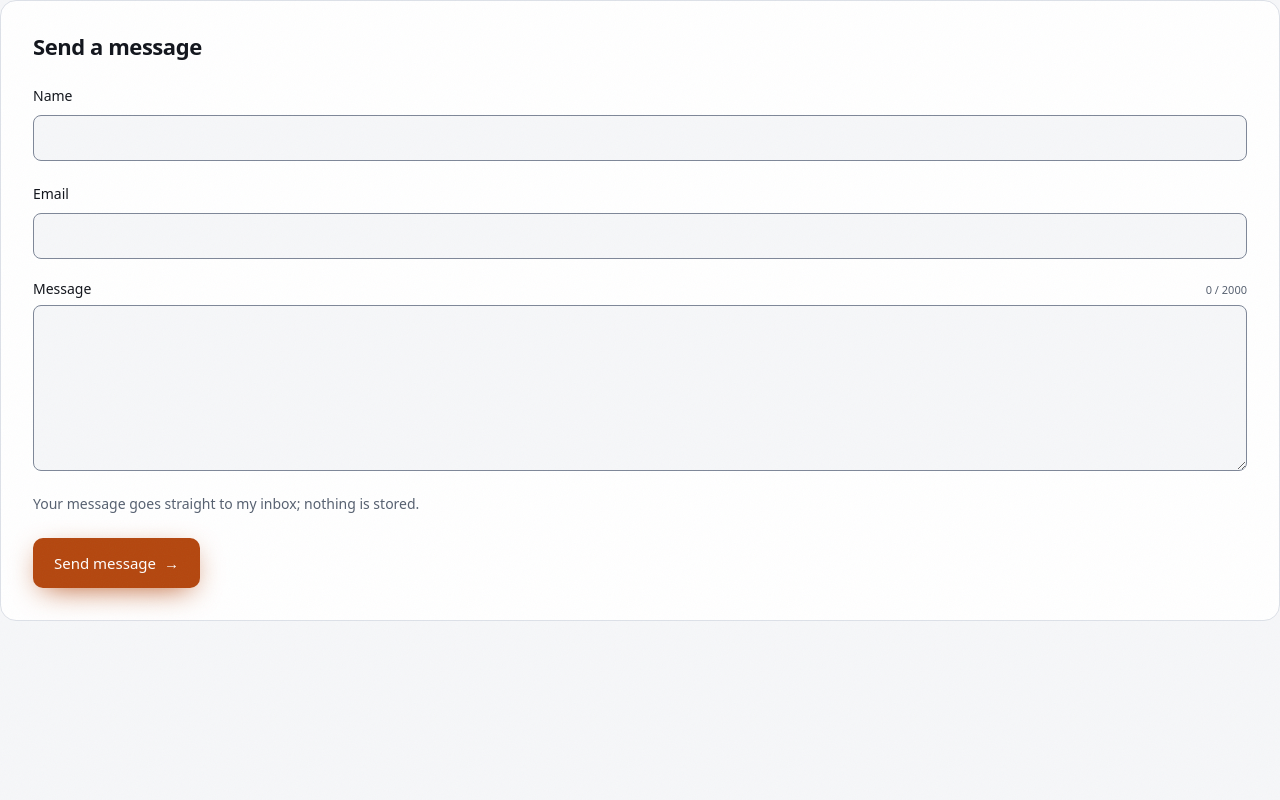
it: ContactForm › shows a server-side form error as an alert with the email
Type "Ada" into the field labelled "Name" at (640, 138), box [33,115,1247,161]
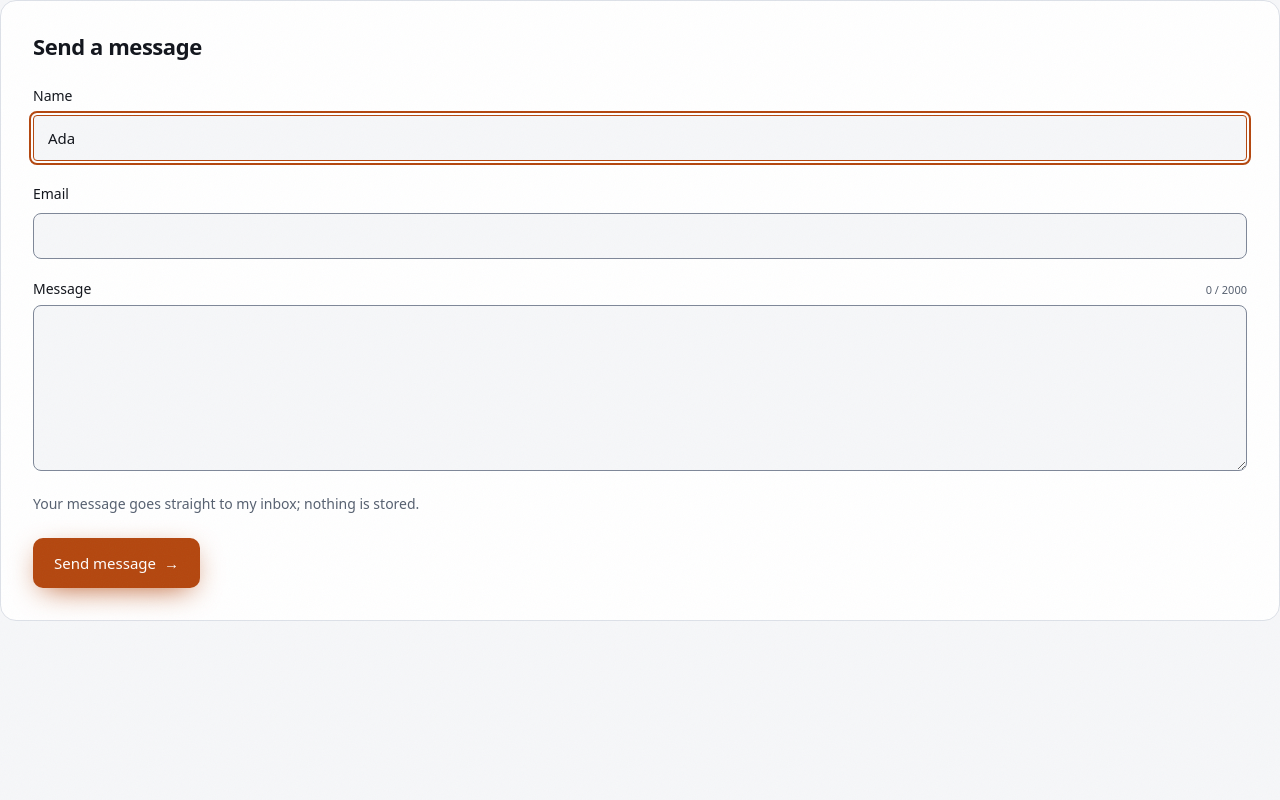
Type "ada@example.com" into the field labelled "Email" at (640, 236), box [33,213,1247,259]
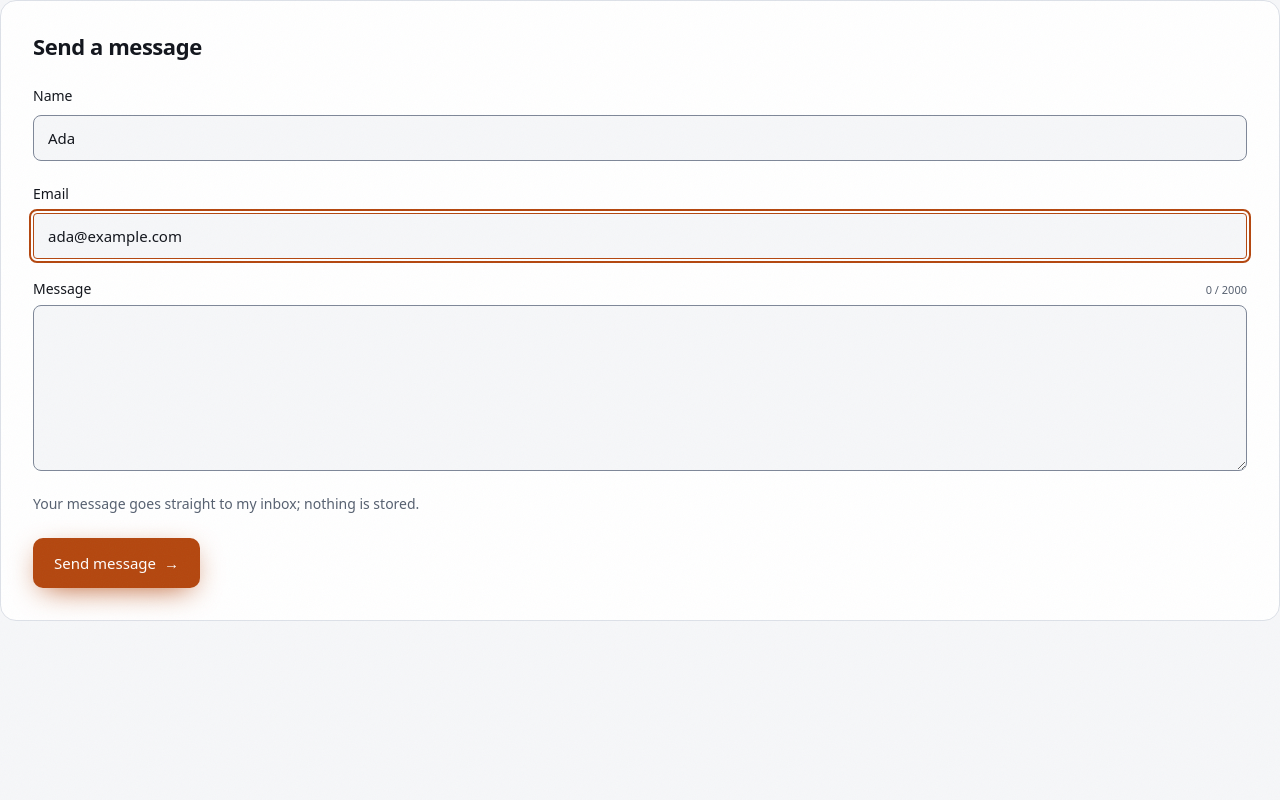
Type "Hello there, nice site!" into the text box labelled "Message" at (640, 388), box [33,305,1247,471]
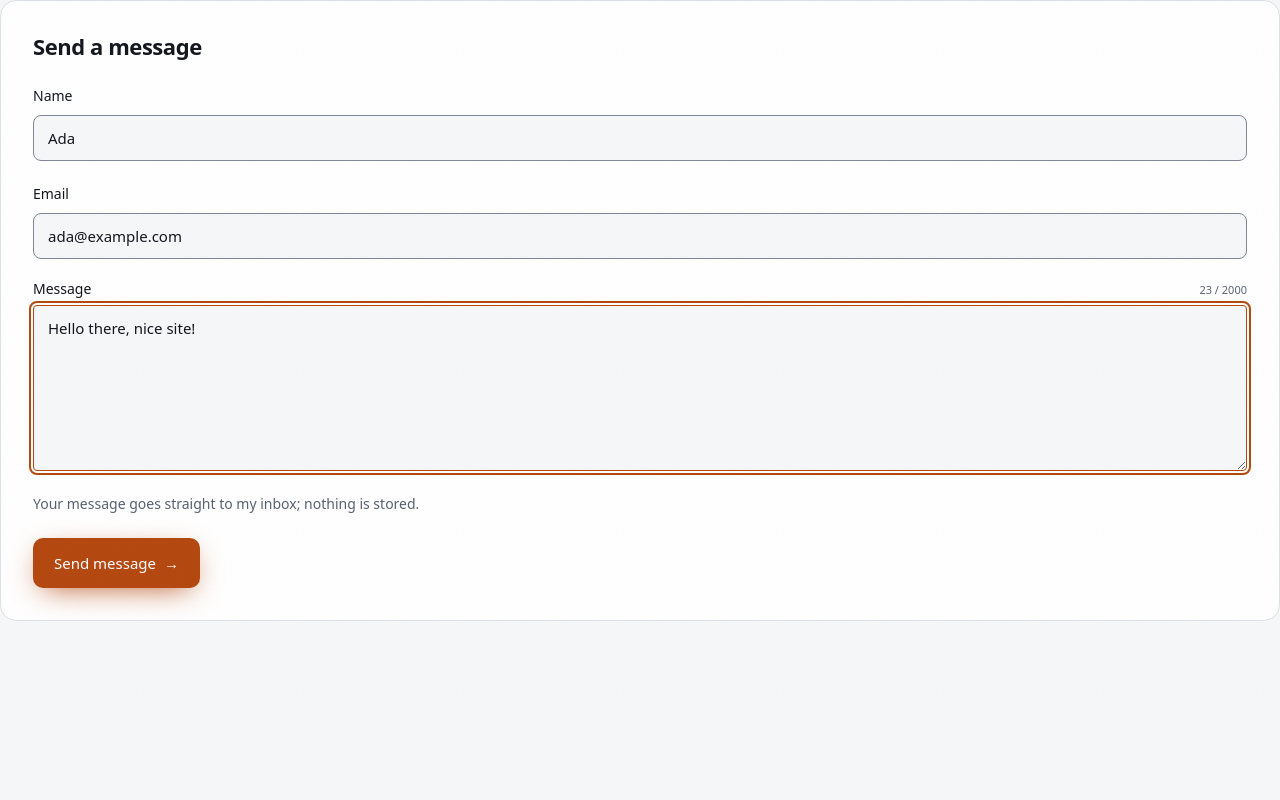
Click the button "Send message →" at (116, 563), box [33,538,200,588]
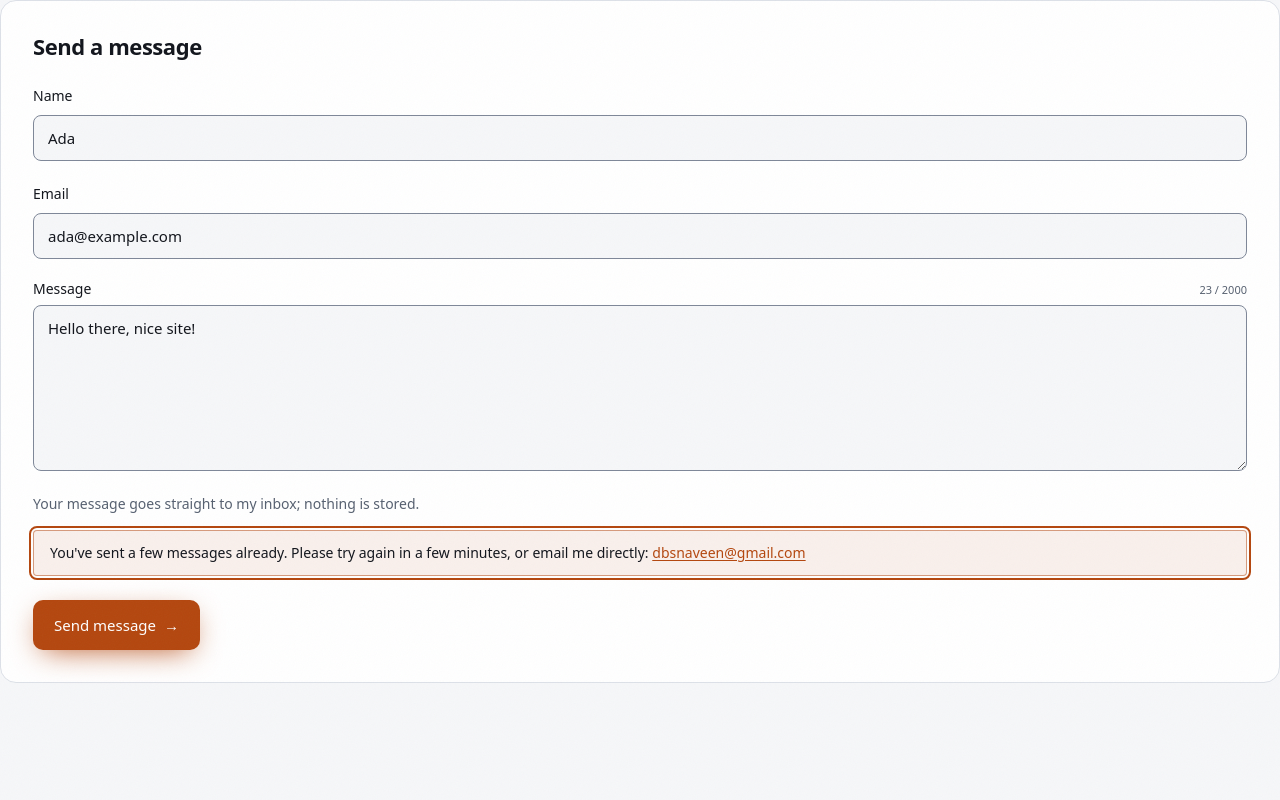
expect the message shows "You've sent a few messages already. Please try again in a few minutes, or email me directly:": met, box [50,543,649,562]
